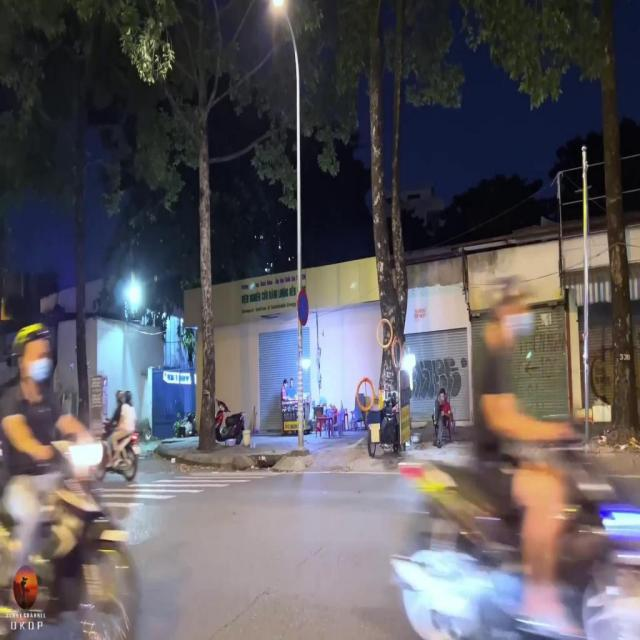cam_do_xe: (297, 289, 308, 327)
